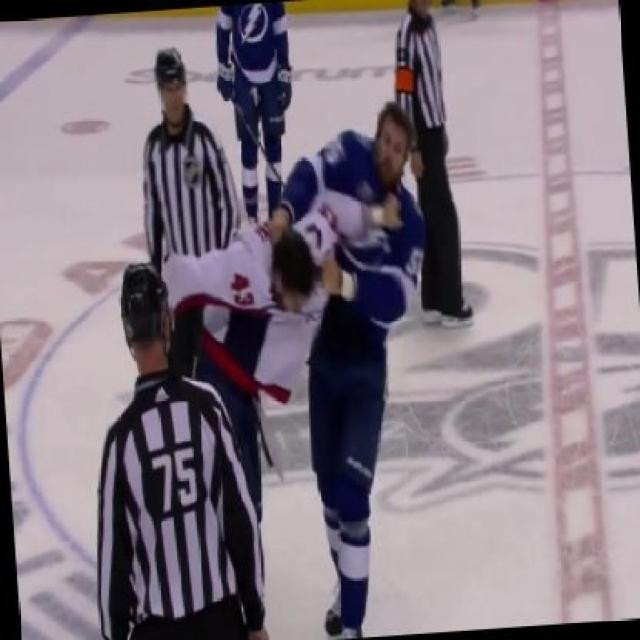fight: (149, 100, 438, 638)
non-fight: (55, 247, 297, 638), (363, 0, 501, 335), (196, 1, 316, 237)
